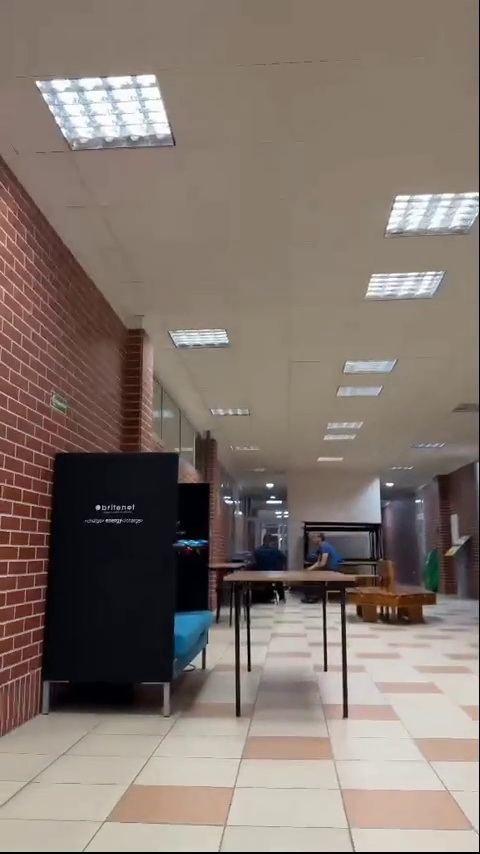drone: (175, 538, 208, 553)
no vest: (254, 533, 288, 573), (305, 530, 340, 568)
